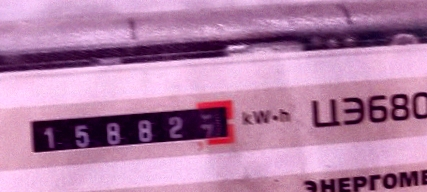1: (41, 124, 57, 150)
2: (167, 112, 185, 139)
5: (72, 122, 90, 148)
7: (199, 120, 214, 137)
8: (103, 119, 122, 145), (135, 115, 153, 141)
screen: (16, 91, 246, 166)
